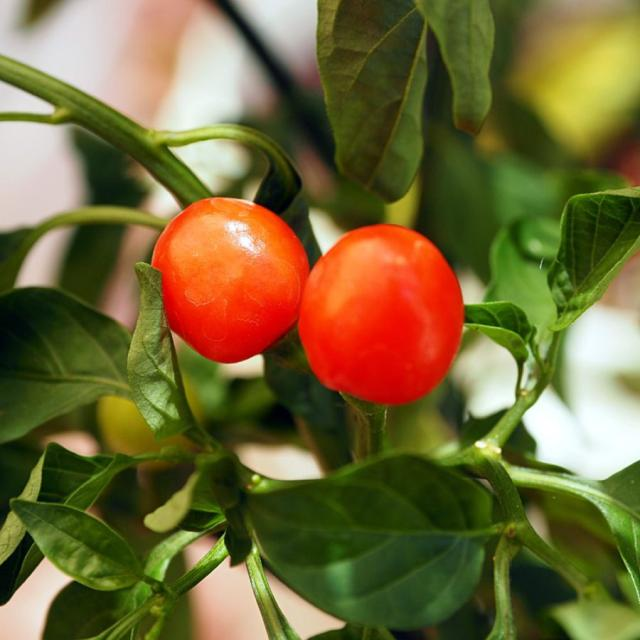Chilli Pepper: (276, 166, 608, 422), (133, 122, 313, 386)
